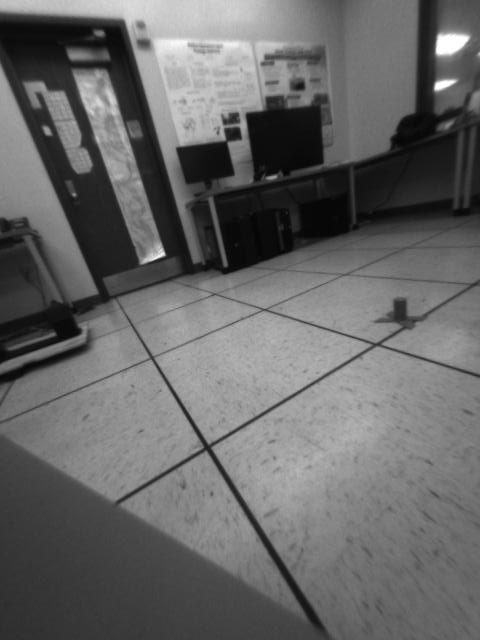X: (373, 292, 426, 332)
